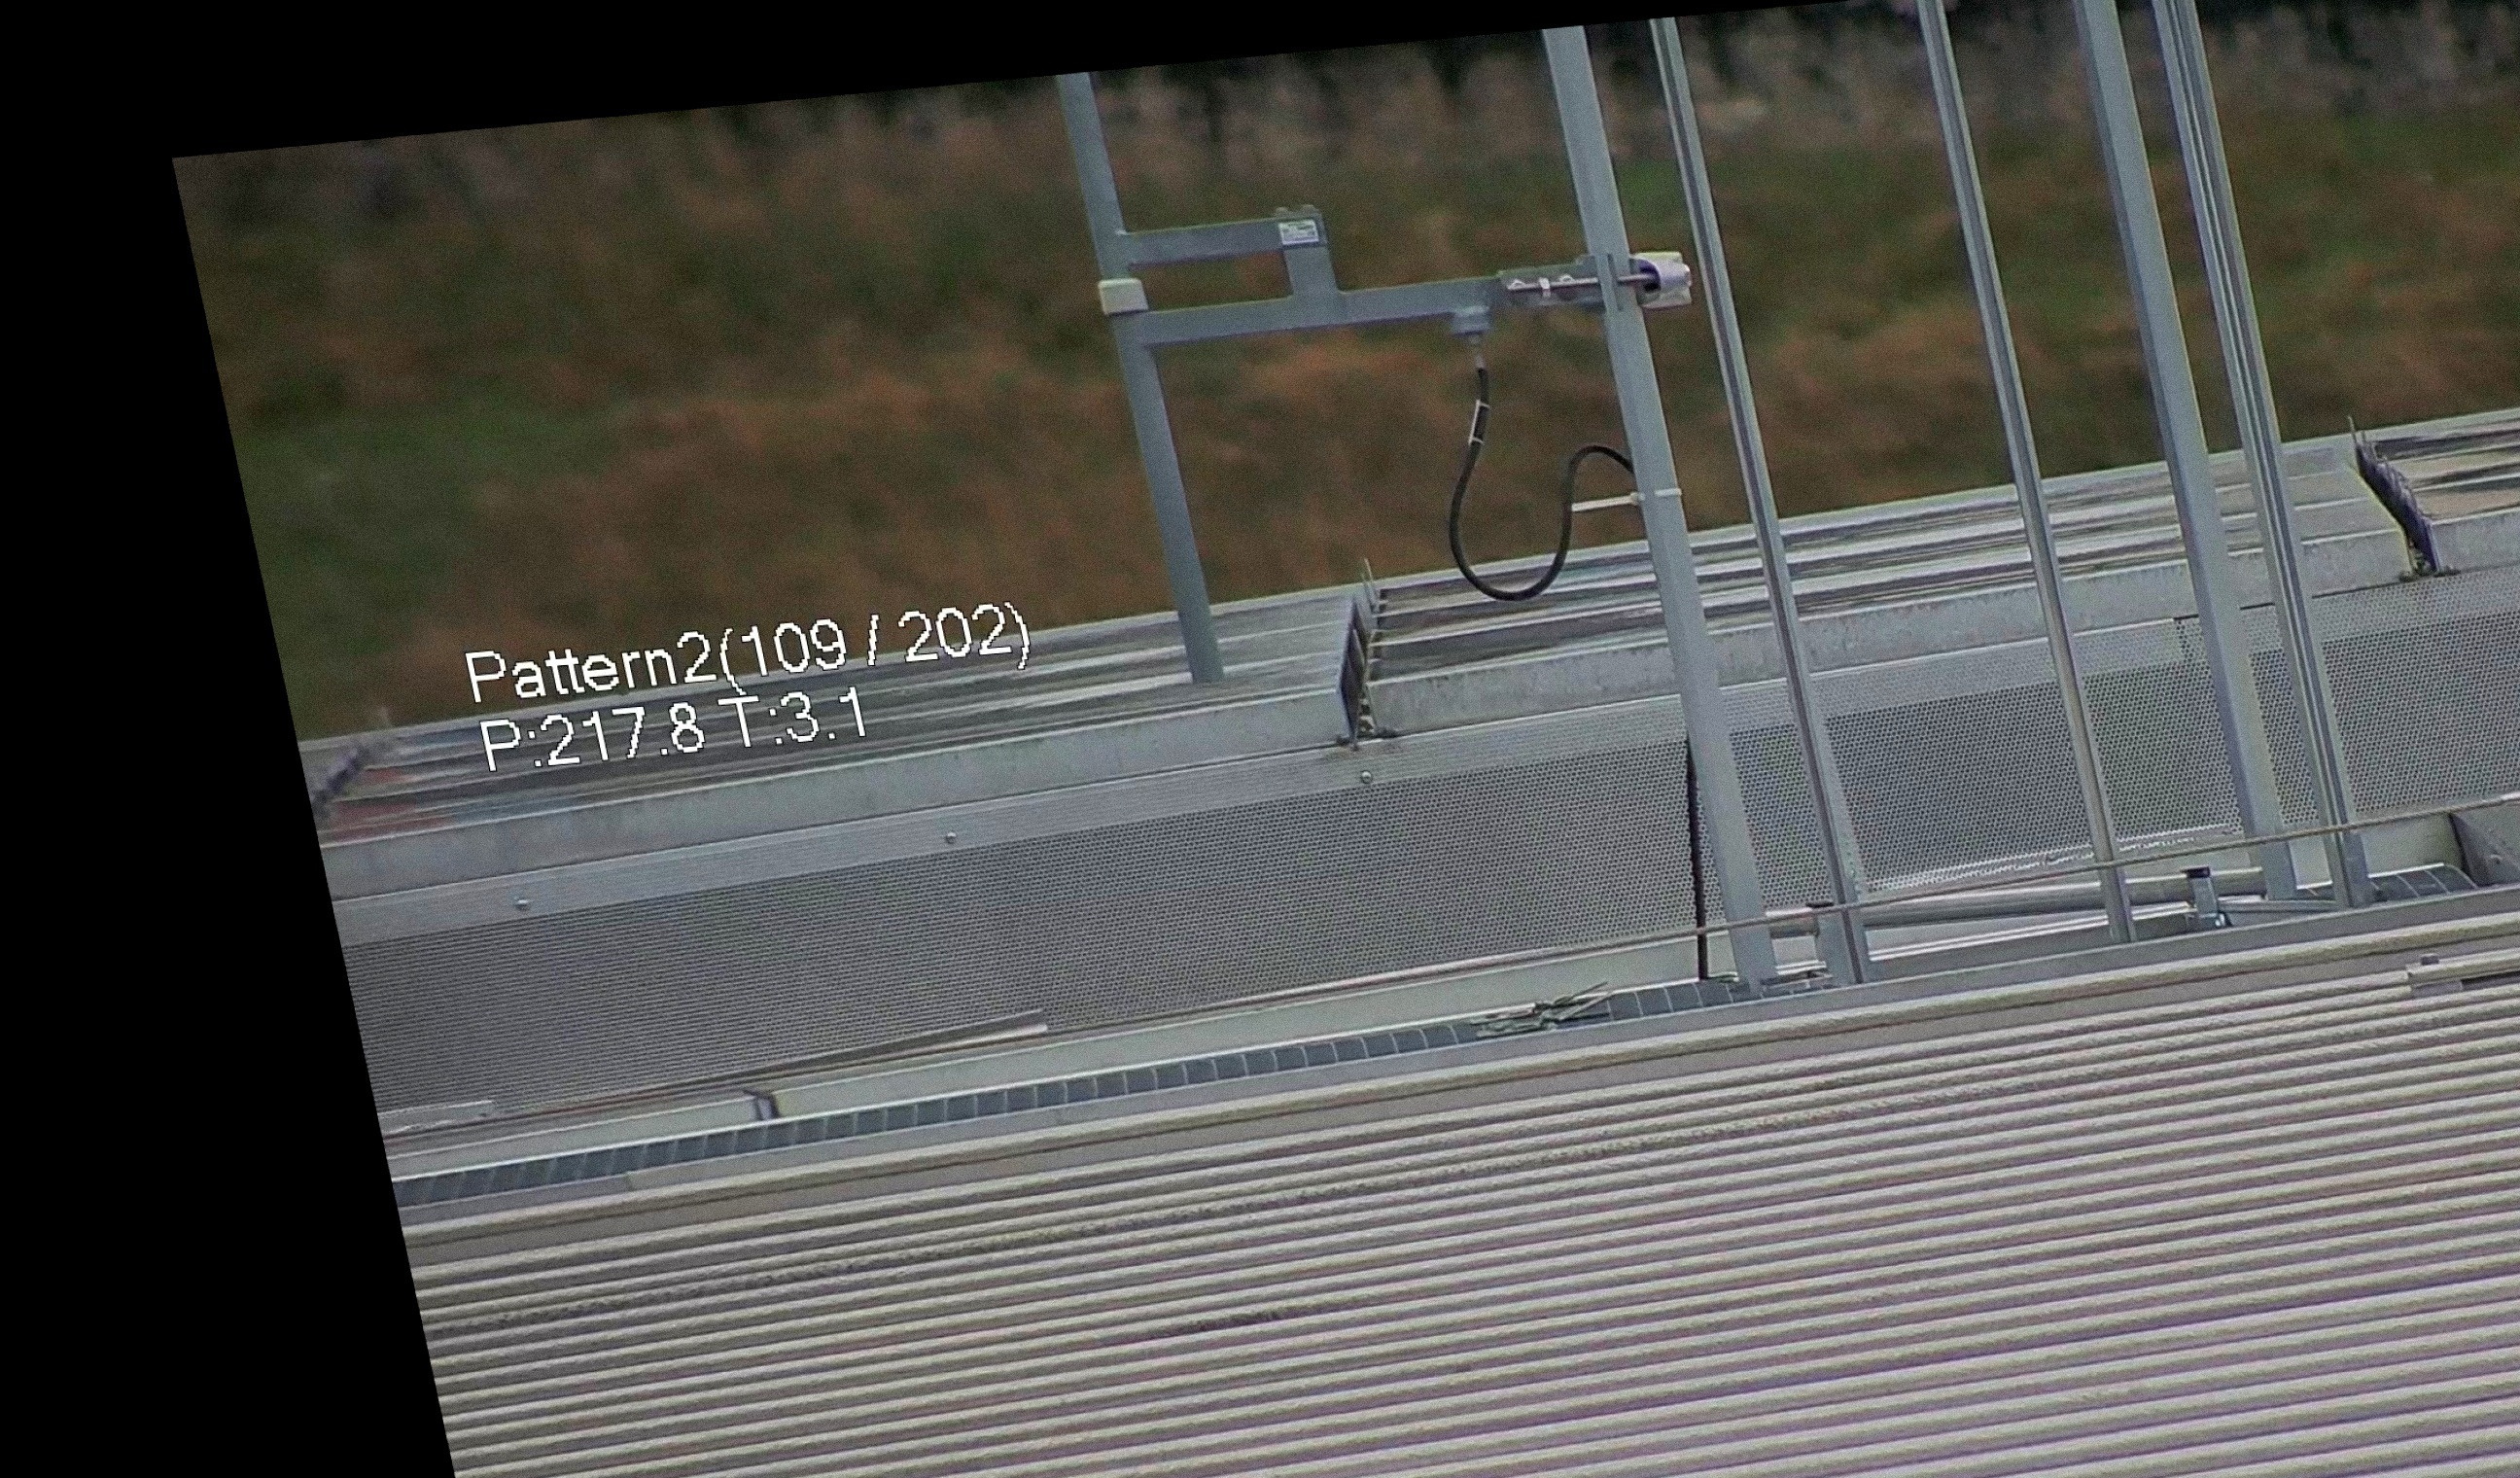Other: (2342, 413, 2473, 581)
